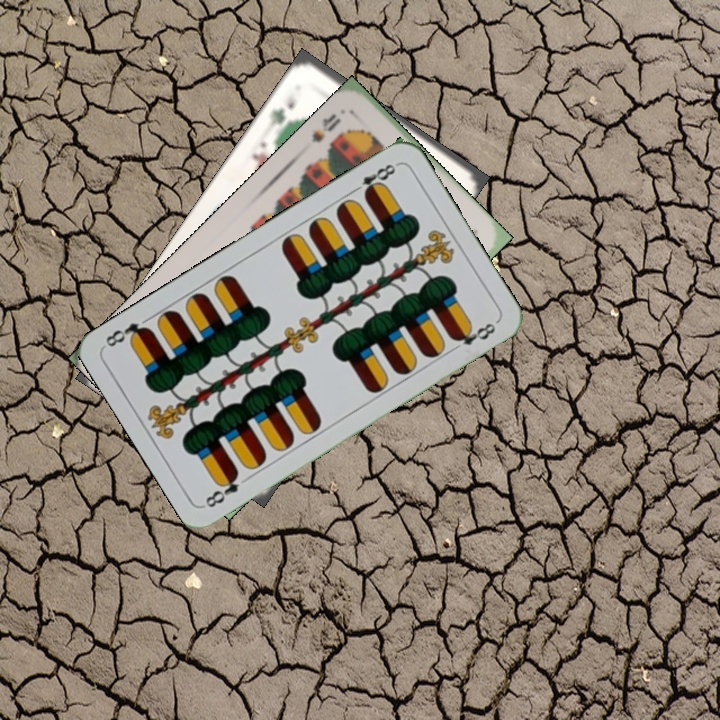E8: (347, 159, 401, 200), (201, 467, 242, 511)
GK: (265, 91, 299, 136)
S8: (307, 109, 344, 145)
